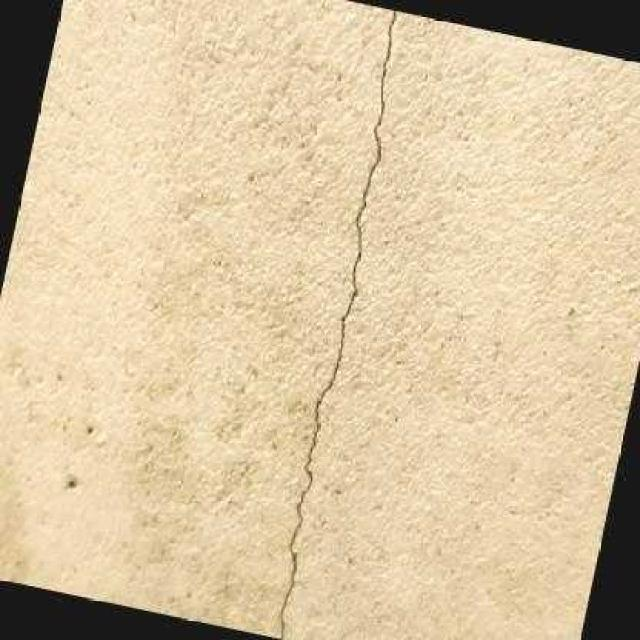D00: (276, 8, 395, 639)
